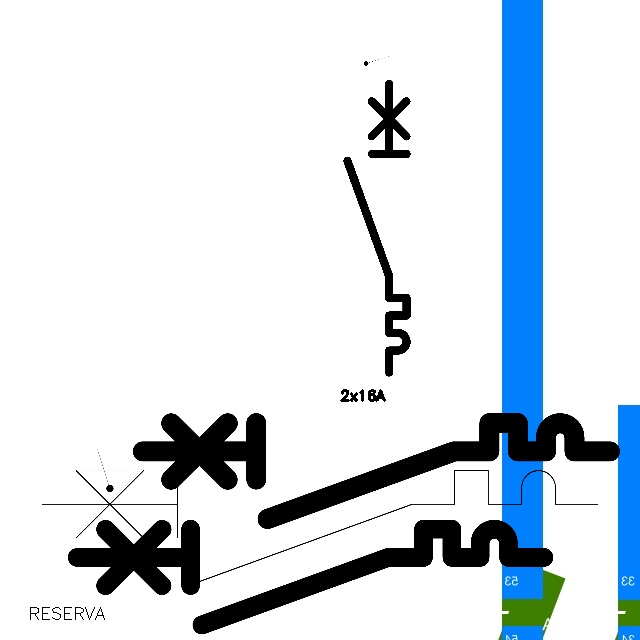interruptor_termomagnetico: (28, 456, 612, 599), (130, 411, 621, 531), (65, 517, 556, 637), (340, 76, 414, 380)
